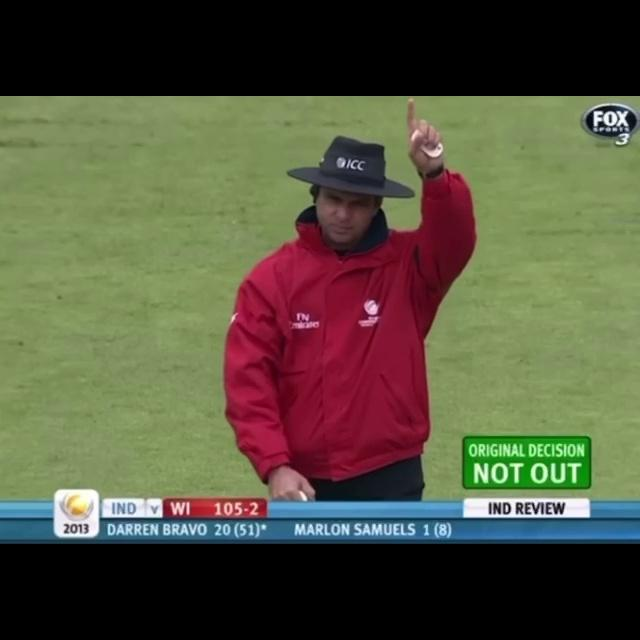umpire: (194, 96, 475, 500)
